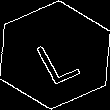L_NW: (27, 25, 83, 85)
